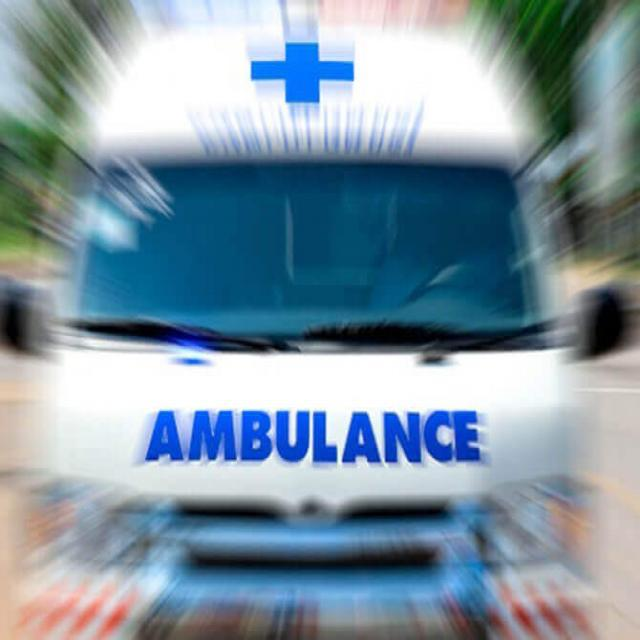emergency-vehicle: (68, 18, 546, 640)
